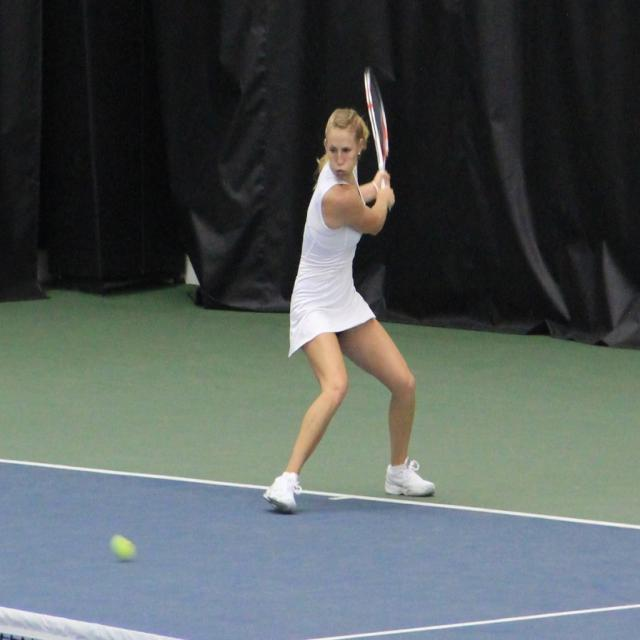Tennis ball: (112, 535, 134, 562)
